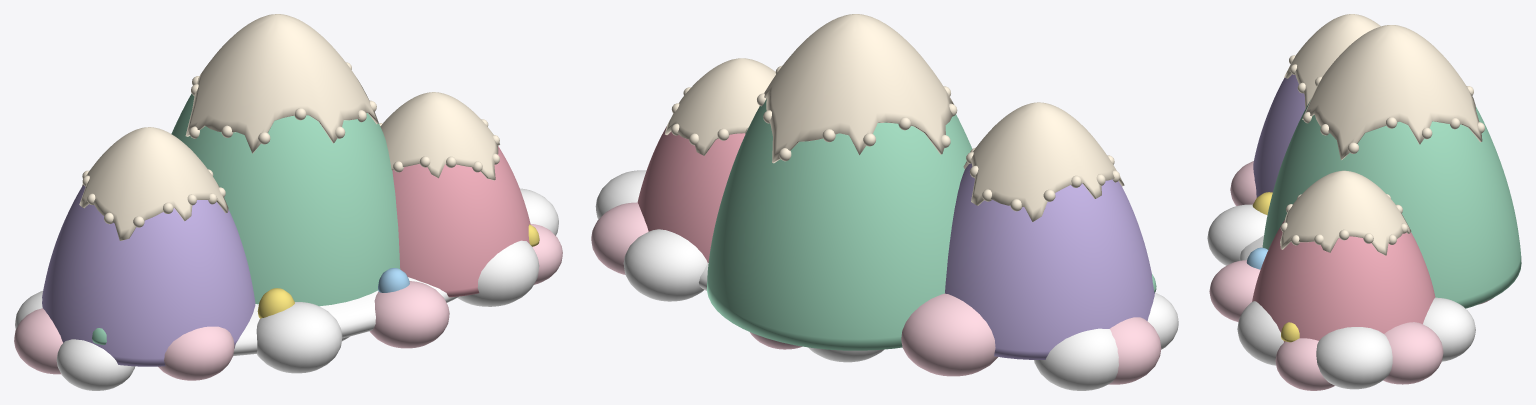
Rendered from jelly_mountains.glb.
The picture shows the model from 3 angles, left to right: view 1: azimuth 30°, elevation 25°; view 2: azimuth 150°, elevation 25°; view 3: azimuth 270°, elevation 25°; orthographic projection. The views are drawn at different scales.
Visible parts, largest first — view 1: jelly_mountains; view 2: jelly_mountains; view 3: jelly_mountains.
Boxes of the visible parts, box(x1,y1,x2,y2) form: jelly_mountains: box(14, 14, 562, 390); jelly_mountains: box(591, 14, 1178, 390); jelly_mountains: box(1207, 14, 1521, 390).
Size of the model in its own units: 14.39 by 7.75 by 7.97.
